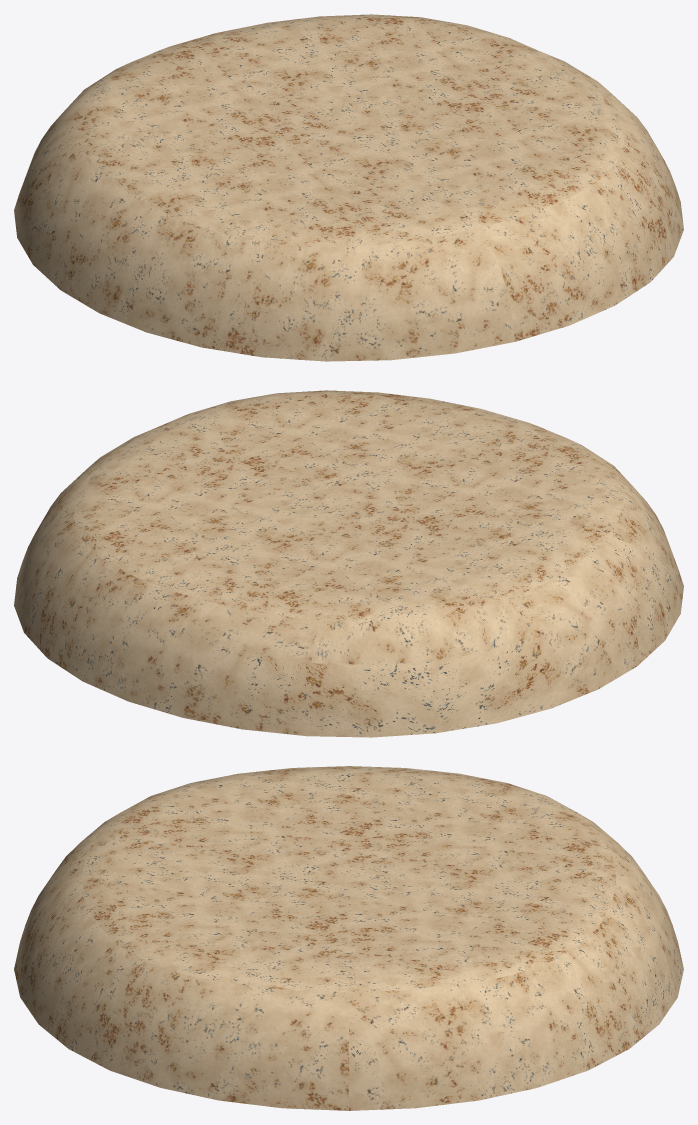
File: Ground.fbx
The picture shows the model from 3 angles, top to bottom: view 1: azimuth 30°, elevation 25°; view 2: azimuth 150°, elevation 25°; view 3: azimuth 270°, elevation 25°; orthographic projection.
Visible parts, largest first — view 1: Cube; view 2: Cube; view 3: Cube.
Boxes of the visible parts, x1,y1,x2,y2 form: Cube: [14, 14, 683, 361]; Cube: [14, 390, 683, 737]; Cube: [14, 766, 683, 1110].
Size of the model in its own units: 2347 by 377 by 2347.
